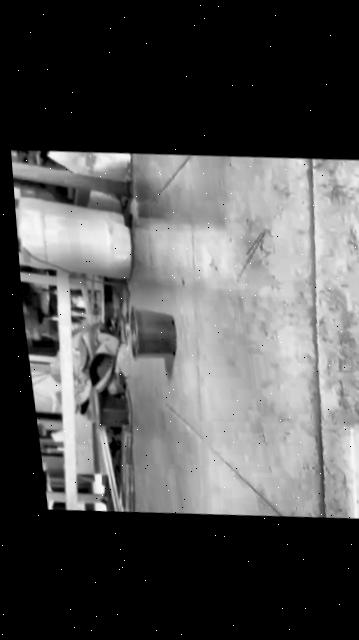pot: (126, 305, 175, 359)
